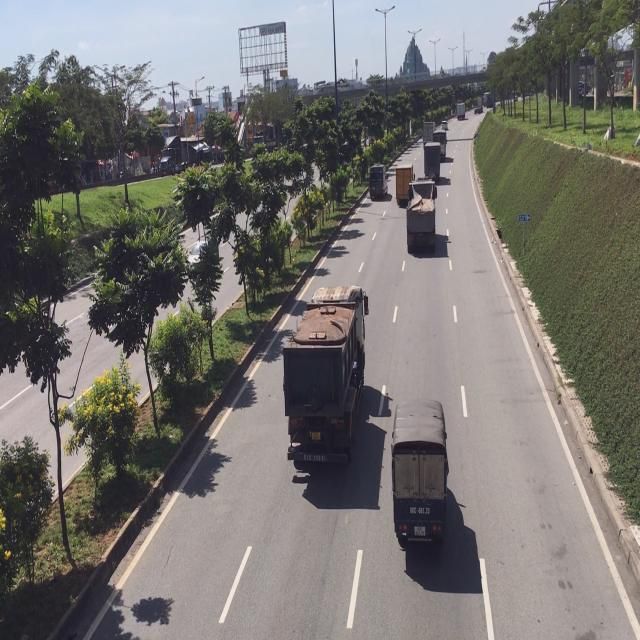bus: (369, 162, 387, 201)
truck: (282, 286, 363, 479), (388, 399, 453, 551), (407, 171, 439, 258), (395, 161, 415, 208), (423, 140, 442, 182)
